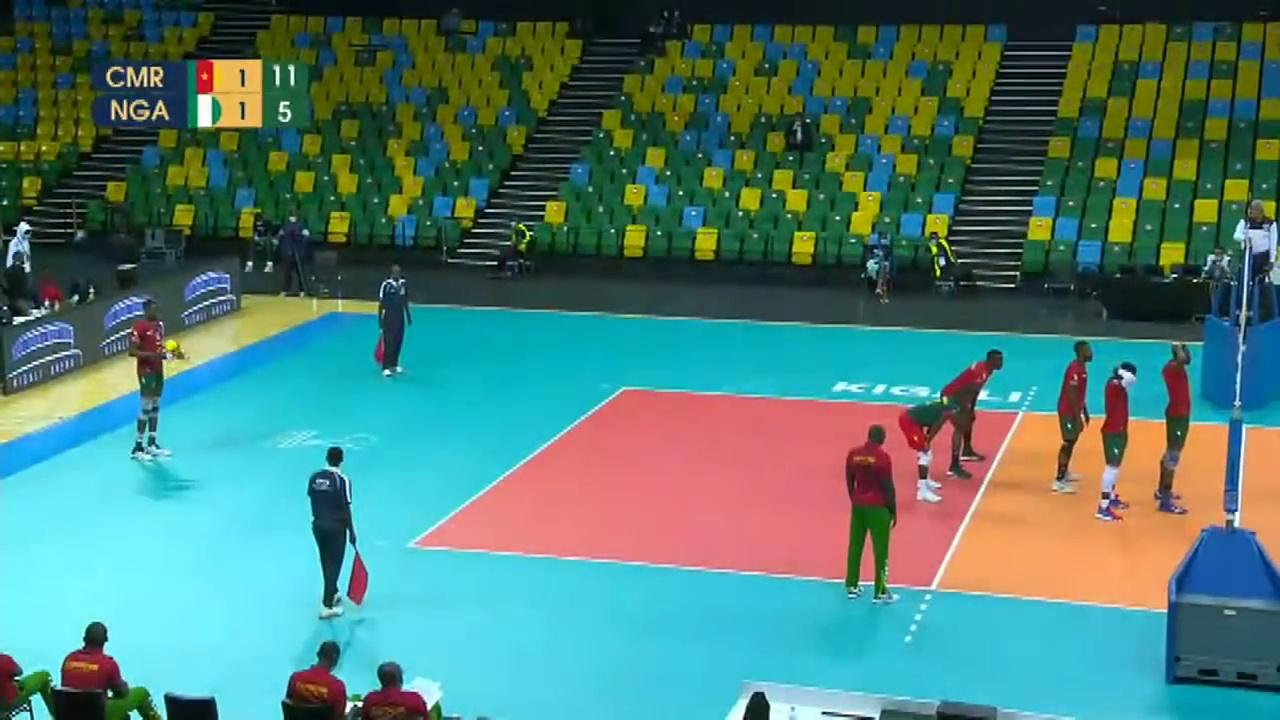player: (897, 386, 971, 507), (946, 340, 1009, 480), (1156, 342, 1202, 518), (128, 294, 174, 459), (1094, 358, 1138, 526), (1054, 343, 1102, 496)
refree: (305, 449, 366, 615), (1233, 198, 1279, 314), (377, 262, 414, 377)
